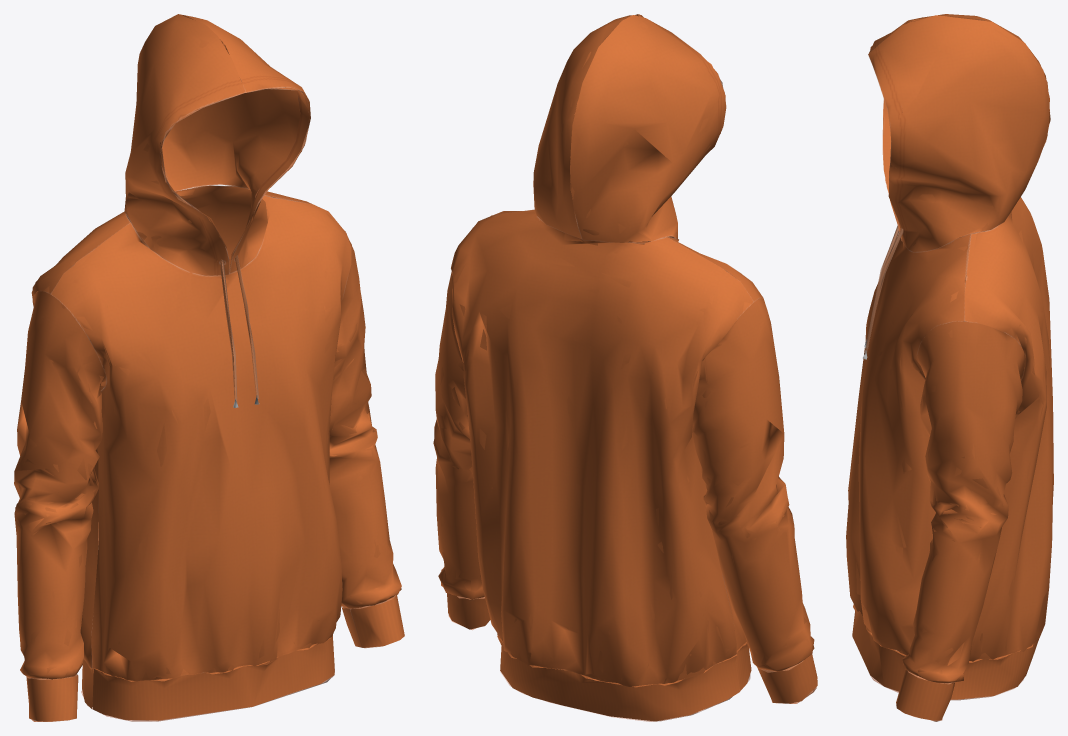
Rendered from ASSET_hoodie.glb.
3 renders of one model, left to right at view 1: azimuth 30°, elevation 25°; view 2: azimuth 150°, elevation 25°; view 3: azimuth 270°, elevation 25°, orthographic. The views are drawn at different scales.
Visible parts, largest first — view 1: ASSET_hoodie; view 2: ASSET_hoodie; view 3: ASSET_hoodie.
Part boxes in pixels (box(x1,y1,x2,y2)): ASSET_hoodie: box(14, 14, 404, 721); ASSET_hoodie: box(433, 14, 817, 721); ASSET_hoodie: box(846, 14, 1053, 721).
Bounding box in the file's own units: 0.588 × 1 × 0.2948.
Materials: 5 (5 with a texture image).
